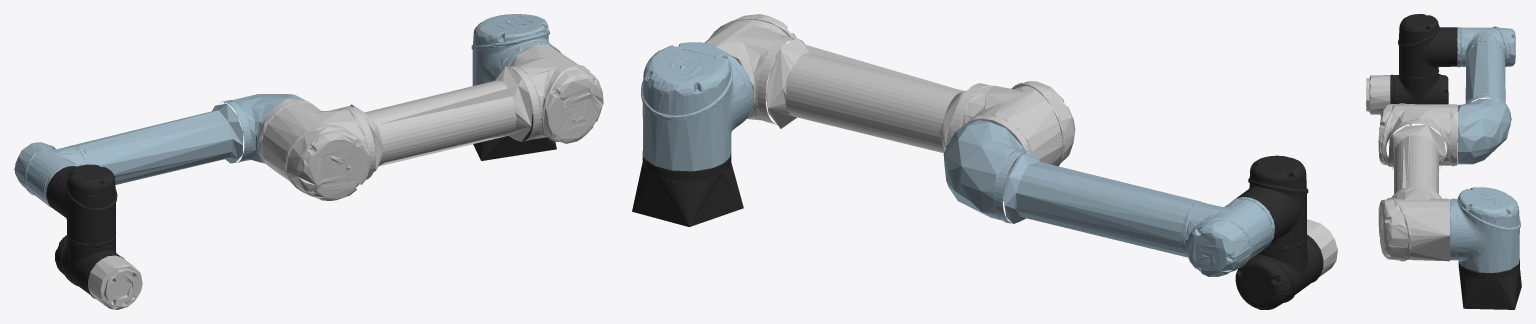
3 views of the same model, side by side, from view 1: azimuth 30°, elevation 25°; view 2: azimuth 150°, elevation 25°; view 3: azimuth 270°, elevation 25° (orthographic). The views are drawn at different scales.
Visible parts, largest first — view 1: upper_arm_link, forearm_link, wrist_1_link, shoulder_link, wrist_3_link, wrist_2_link, base; view 2: upper_arm_link, forearm_link, shoulder_link, base, wrist_1_link, wrist_2_link, wrist_3_link; view 3: upper_arm_link, forearm_link, shoulder_link, wrist_1_link, base, wrist_2_link, wrist_3_link.
Part boxes in pixels (left/top/right/bottom): upper_arm_link: left=257, top=44, right=603, bottom=200; forearm_link: left=14, top=94, right=305, bottom=209; wrist_1_link: left=46, top=164, right=117, bottom=248; shoulder_link: left=471, top=14, right=561, bottom=114; wrist_3_link: left=88, top=255, right=142, bottom=309; wrist_2_link: left=55, top=235, right=123, bottom=298; base: left=473, top=114, right=556, bottom=160; upper_arm_link: left=704, top=14, right=1075, bottom=200; forearm_link: left=943, top=120, right=1274, bottom=276; shoulder_link: left=641, top=42, right=753, bottom=171; base: left=632, top=151, right=743, bottom=226; wrist_1_link: left=1236, top=155, right=1308, bottom=251; wrist_2_link: left=1235, top=235, right=1323, bottom=309; wrist_3_link: left=1307, top=219, right=1337, bottom=276; upper_arm_link: left=1378, top=103, right=1457, bottom=261; forearm_link: left=1457, top=26, right=1515, bottom=164; shoulder_link: left=1450, top=187, right=1520, bottom=272; wrist_1_link: left=1398, top=14, right=1457, bottom=80; base: left=1458, top=259, right=1521, bottom=309; wrist_2_link: left=1390, top=73, right=1448, bottom=104; wrist_3_link: left=1366, top=75, right=1390, bottom=115.
Bounding box in the file's own units: 0.917 × 0.2154 × 0.295.
